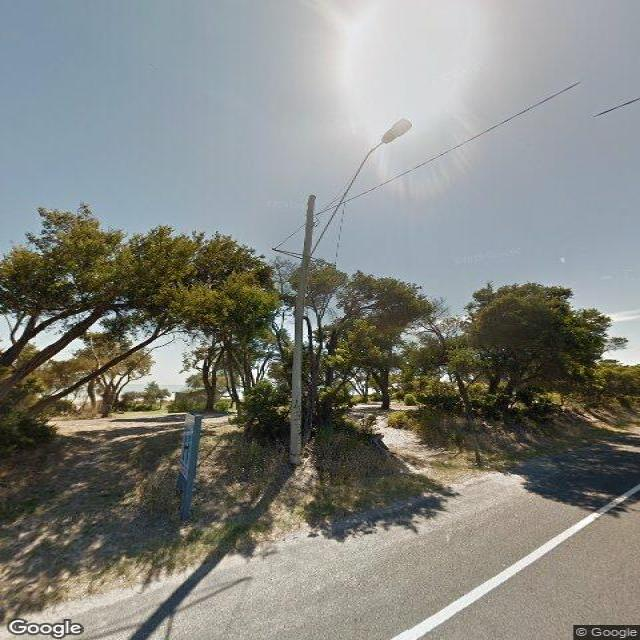streetlight: (271, 118, 413, 271)
timber-pole: (286, 194, 318, 468)
top mount suitable pole: (271, 116, 414, 468)
